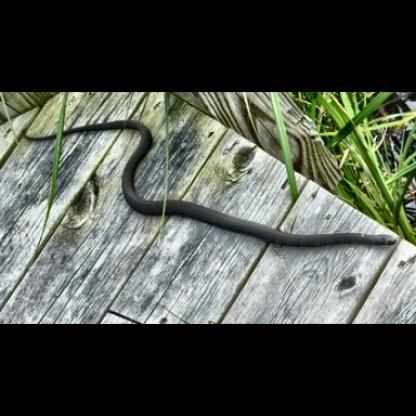Snake: (29, 117, 404, 254)
